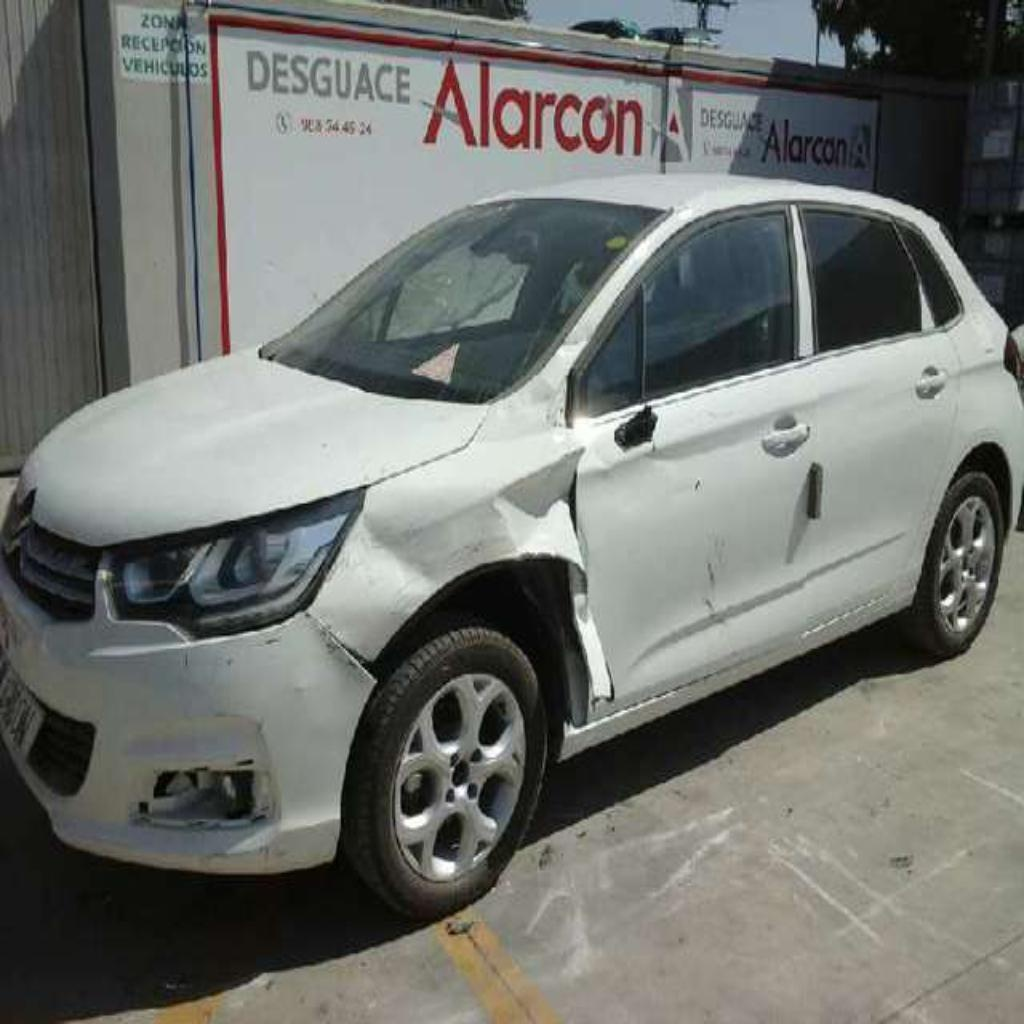Dent: (294, 429, 627, 656)
Scratch: (188, 843, 296, 868)
